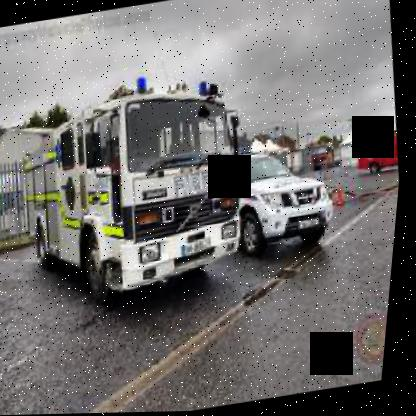emergency: (0, 72, 284, 338)
